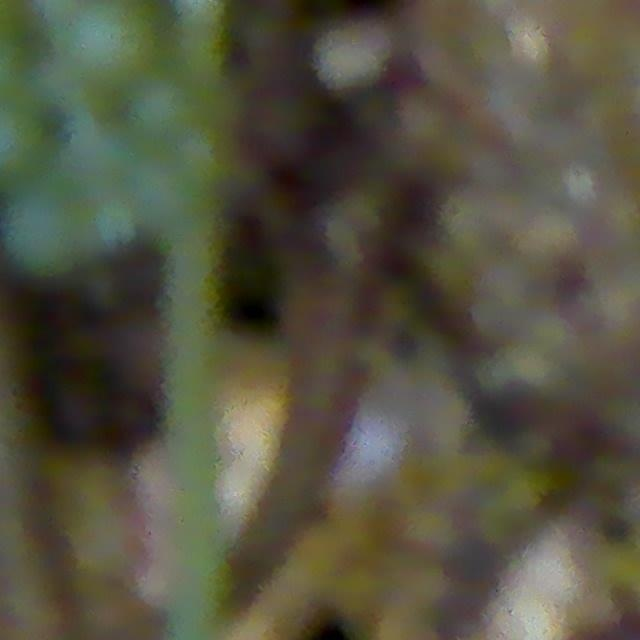SeaGrape: (70, 0, 165, 97), (0, 189, 89, 279), (127, 74, 198, 143)
